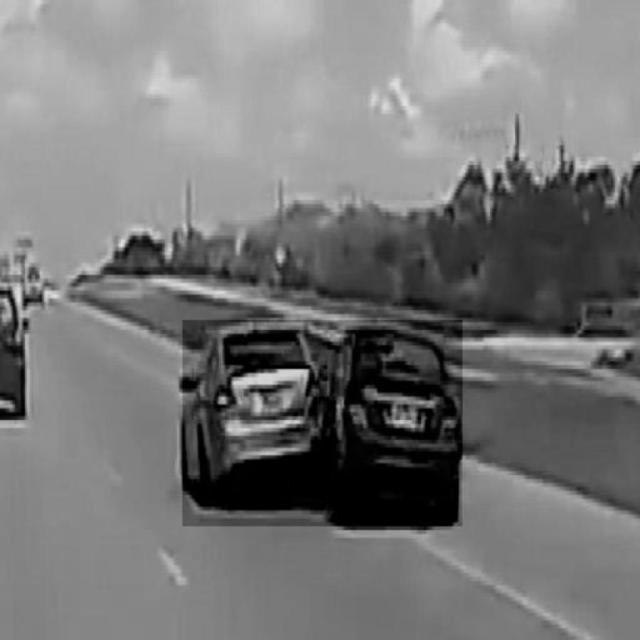accident: (183, 320, 464, 526)
